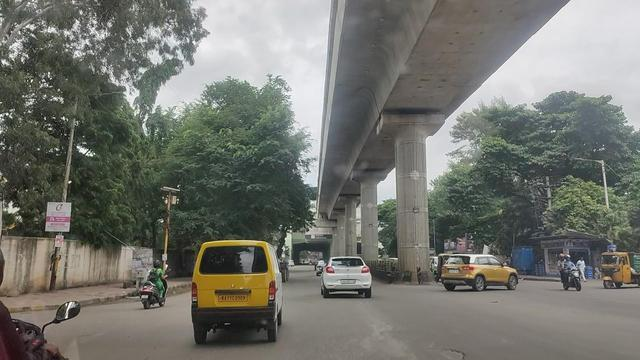LMV: (192, 241, 281, 345), (319, 258, 371, 297), (138, 258, 167, 311)
RoadDamages: (360, 308, 409, 360), (77, 321, 106, 345), (439, 341, 466, 360)
